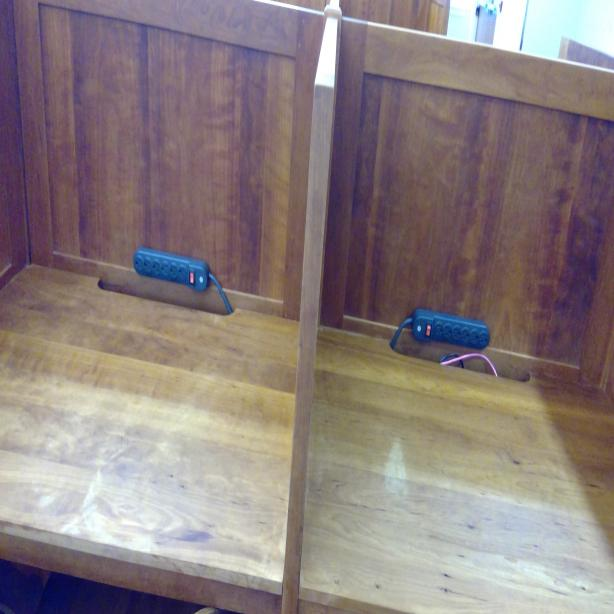typeb: (434, 320, 444, 340), (480, 331, 490, 349), (169, 261, 179, 278), (471, 328, 480, 345), (444, 321, 453, 338), (462, 325, 470, 344), (452, 324, 461, 340), (162, 260, 170, 277), (135, 257, 144, 272), (177, 266, 187, 279), (152, 259, 160, 275), (144, 256, 150, 275)
